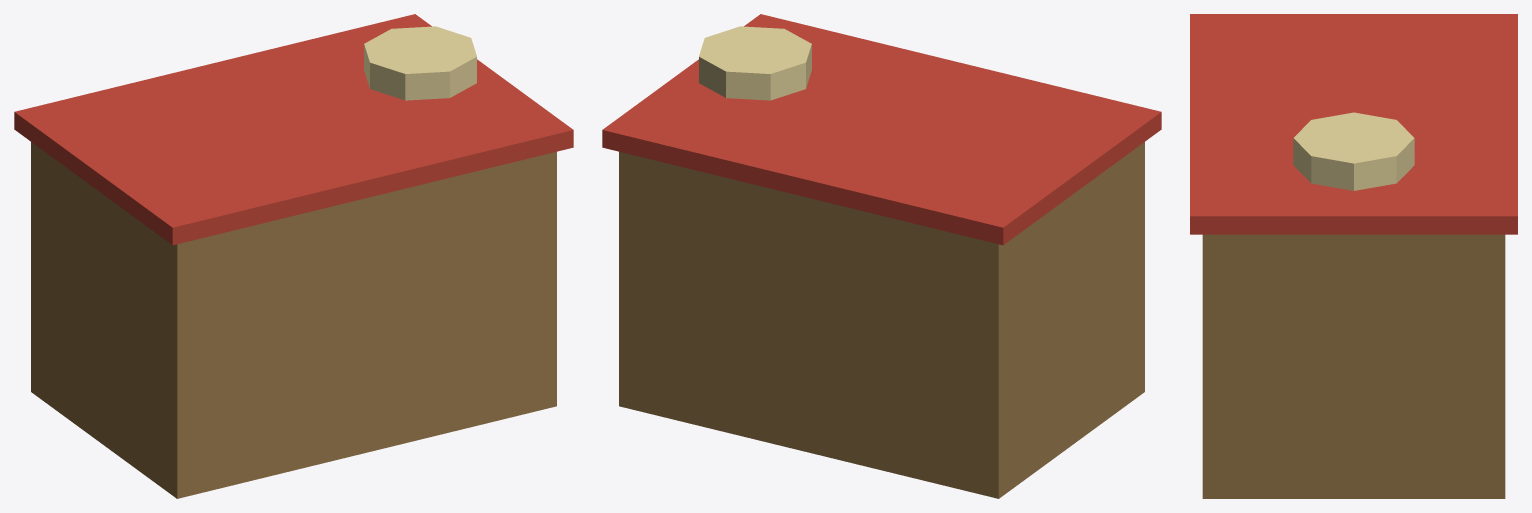
File: Prop_PreservedRation.fbx
The picture shows the model from 3 angles, left to right: view 1: azimuth 30°, elevation 25°; view 2: azimuth 150°, elevation 25°; view 3: azimuth 270°, elevation 25°; orthographic projection. The views are drawn at different scales.
Parts seen in each view (by area): view 1: Prop_PreservedRation; view 2: Prop_PreservedRation; view 3: Prop_PreservedRation.
Boxes of the visible parts, bbox=[...] form: Prop_PreservedRation: bbox=[14, 14, 573, 498]; Prop_PreservedRation: bbox=[602, 14, 1161, 498]; Prop_PreservedRation: bbox=[1190, 14, 1517, 498].
Bounding box in the file's own units: 0.095 × 0.072 × 0.065.
